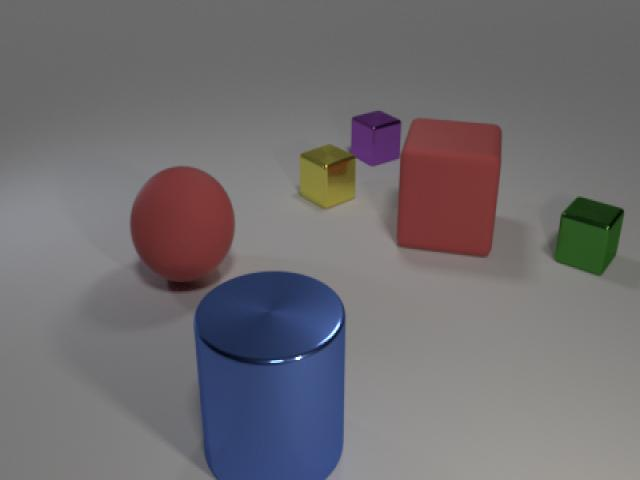cylinder: (192, 272, 345, 480)
round ball: (129, 166, 235, 284)
